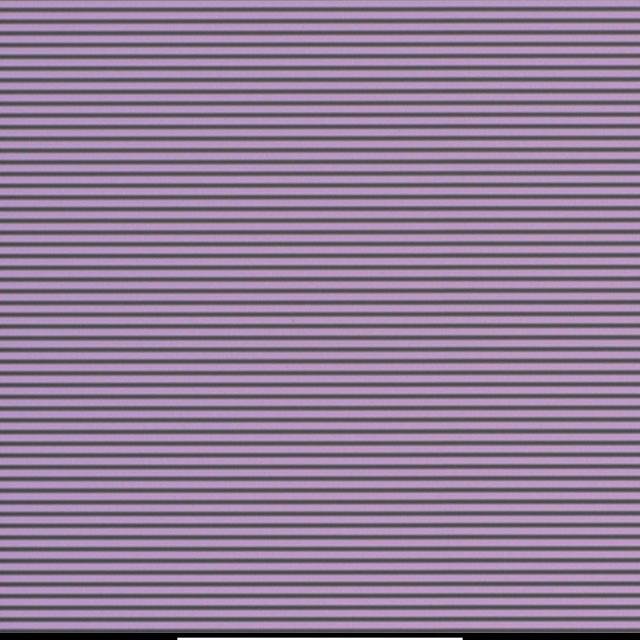nonvisual: (320, 285, 328, 295)
